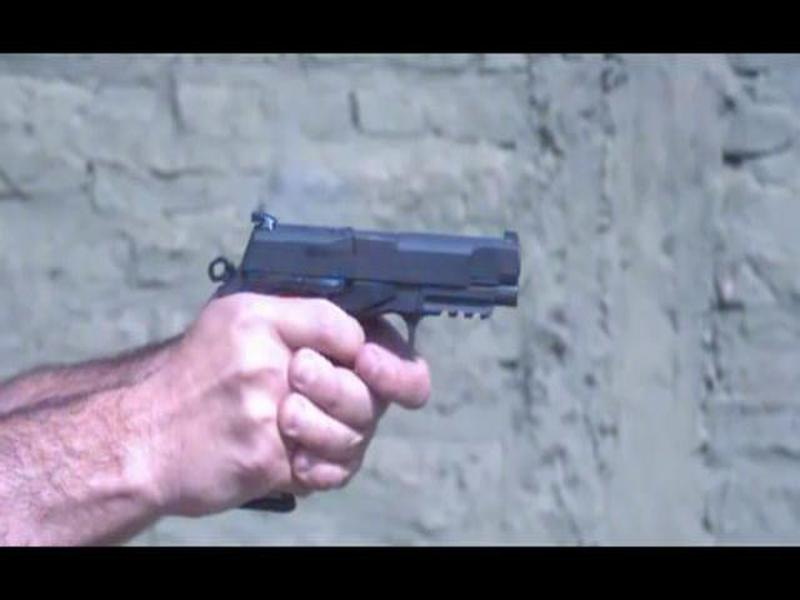Pistola: (185, 204, 531, 330)
